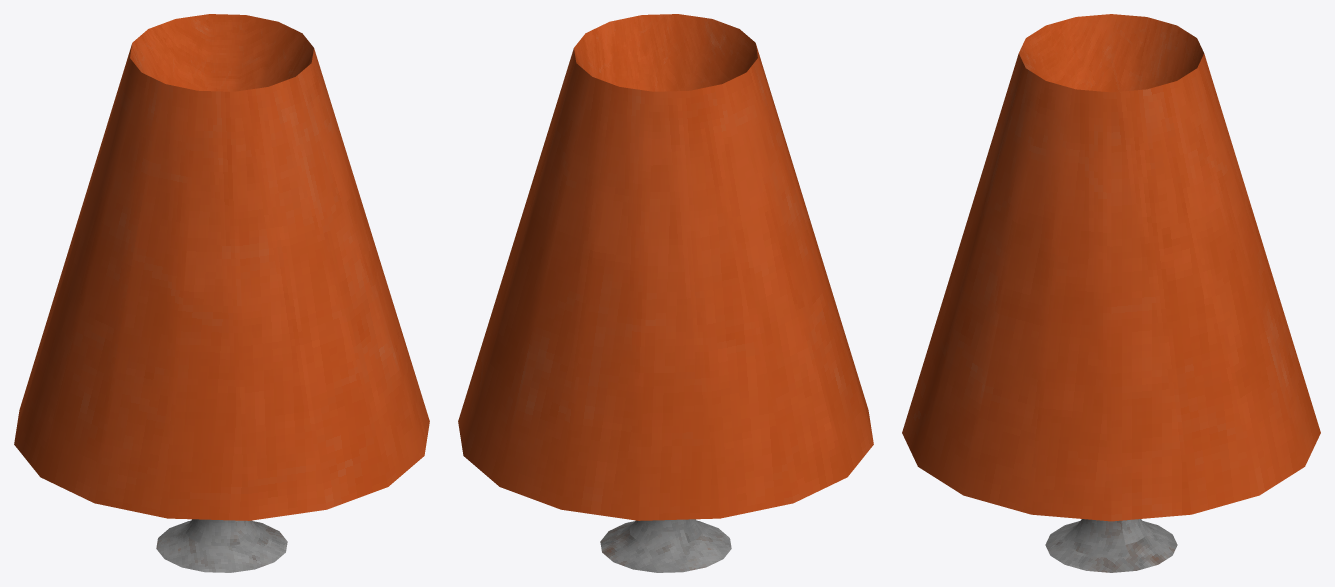
The model's file is Lamp.glb.
The picture shows the model from 3 angles, left to right: view 1: azimuth 30°, elevation 25°; view 2: azimuth 150°, elevation 25°; view 3: azimuth 270°, elevation 25°; orthographic projection.
Visible parts, largest first — view 1: Lamp; view 2: Lamp; view 3: Lamp.
Boxes of the visible parts, bbox=[...] form: Lamp: bbox=[14, 14, 429, 572]; Lamp: bbox=[458, 14, 873, 572]; Lamp: bbox=[902, 14, 1320, 572].
Bounding box in the file's own units: 0.3922 × 0.508 × 0.3922.
Materials: 2 (2 with a texture image).
